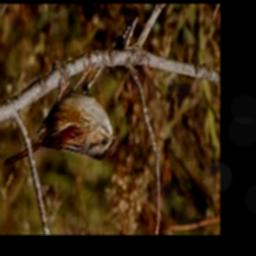Sparrow: (4, 54, 120, 166)
